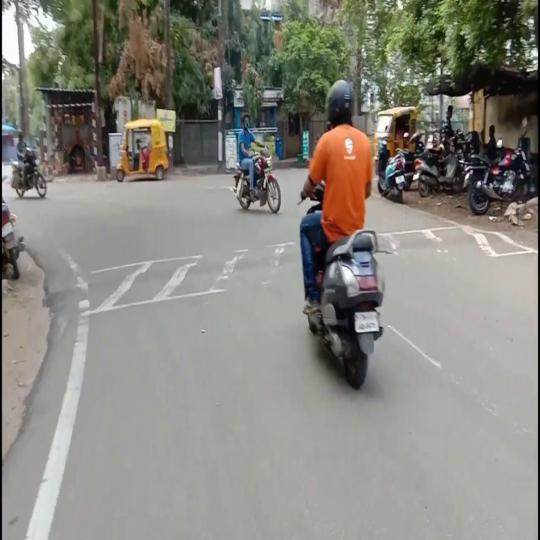Speed Bump: (48, 247, 302, 306), (379, 231, 515, 251)
